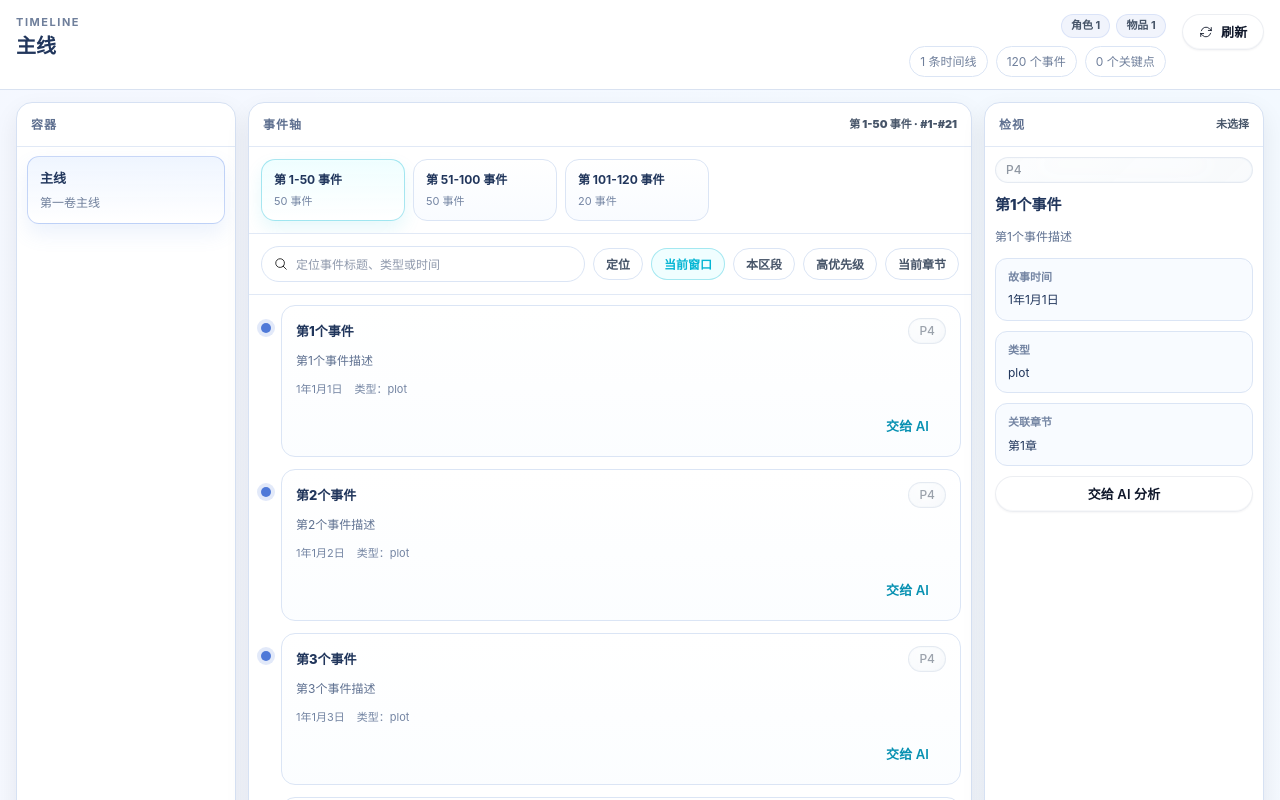
Scenario: TimelineOutlineView › 时间线定位应跳转到命中事件所在区段
In the field with placeholder "定位事件标题、类型或时间": {"x": 434, "y": 264} [296, 255, 572, 274], type "第115个事件"
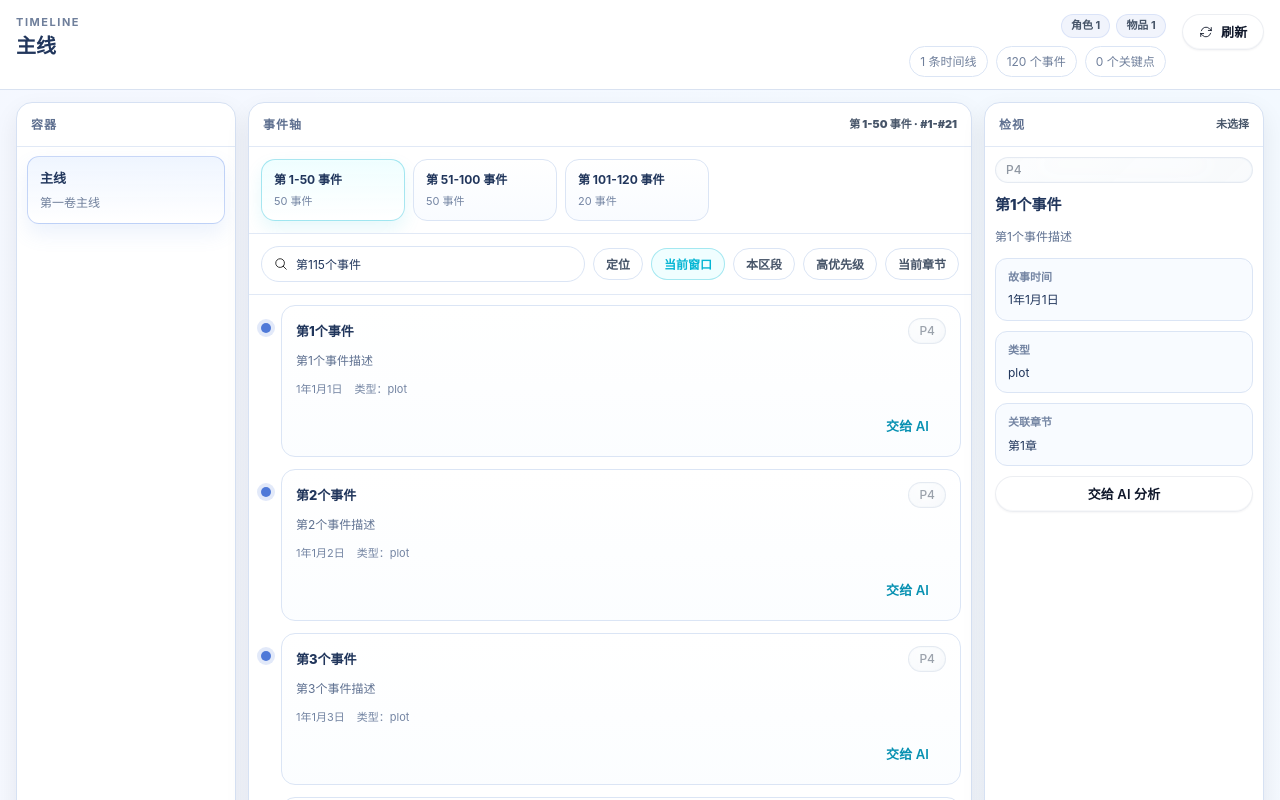
Click the button "定位": {"x": 618, "y": 264} [593, 248, 643, 280]
(page scrolled)
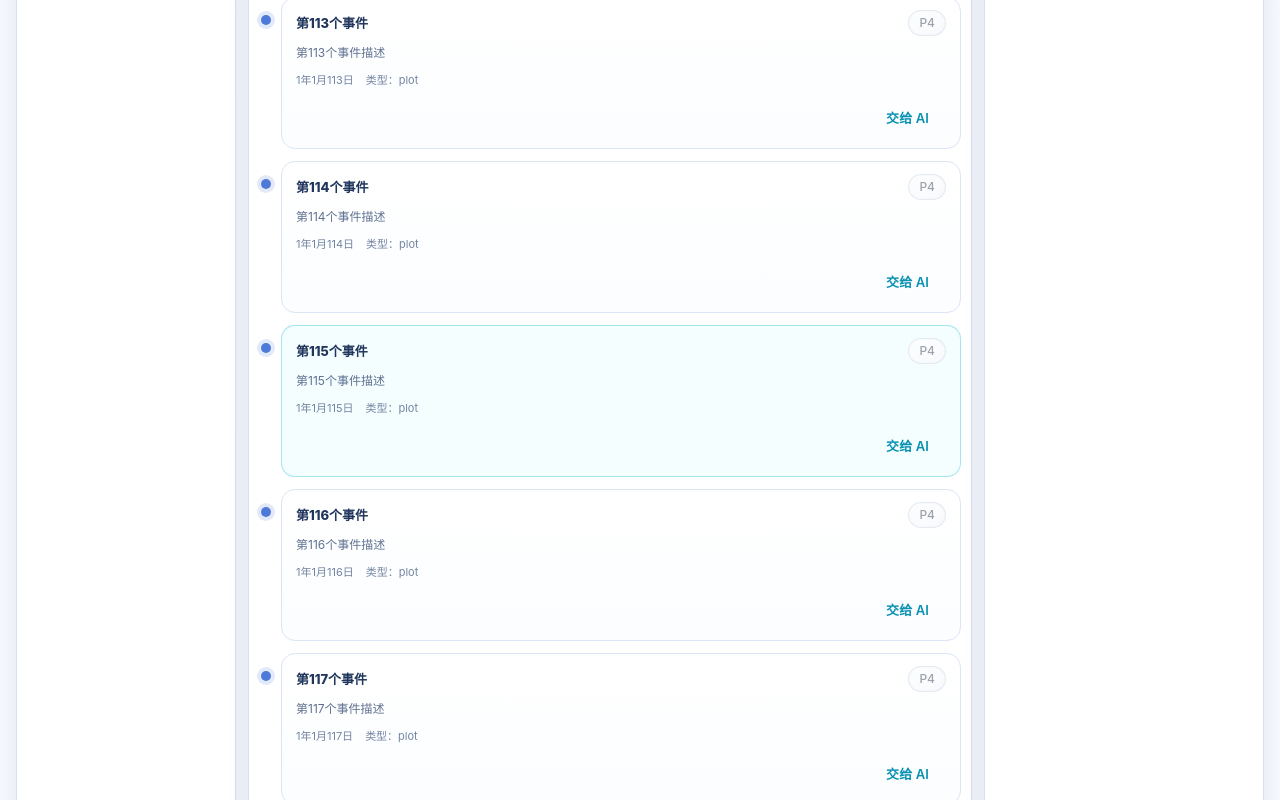
Check: the element with class "is-selected" shows "第115个事件", box [296, 342, 368, 358]
